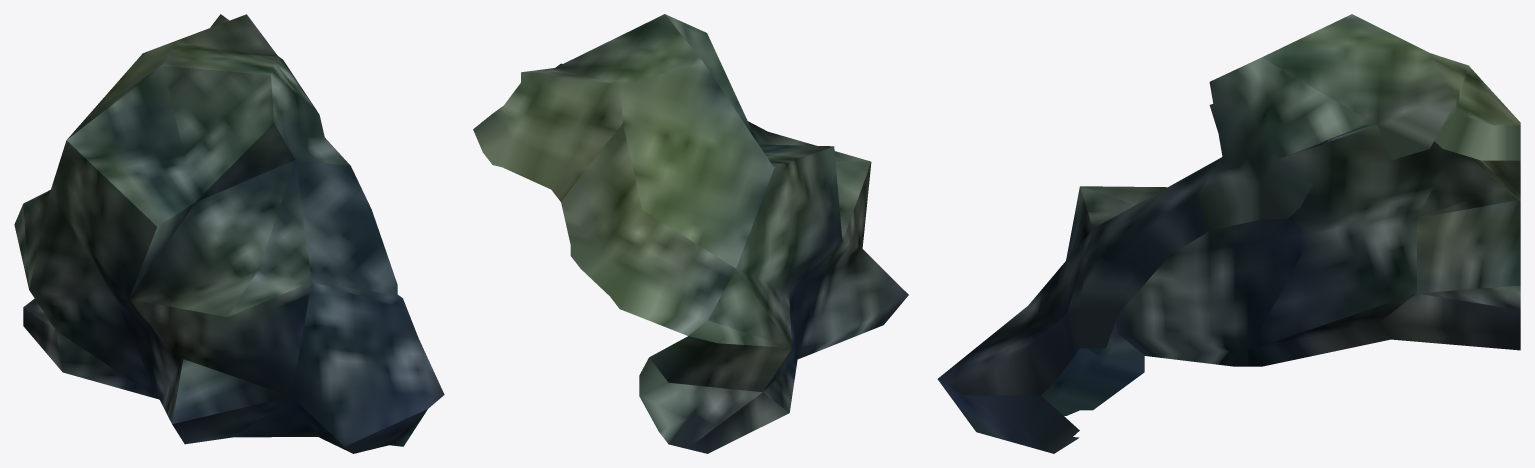
3 views of the same model, side by side, from view 1: azimuth 30°, elevation 25°; view 2: azimuth 150°, elevation 25°; view 3: azimuth 270°, elevation 25° (orthographic). The views are drawn at different scales.
Visible parts, largest first — view 1: 30436272704361615426_0; view 2: 30436272704361615426_0; view 3: 30436272704361615426_0.
Boxes of the visible parts, x1,y1,x2,y2 form: 30436272704361615426_0: (14, 14, 444, 453); 30436272704361615426_0: (473, 14, 908, 453); 30436272704361615426_0: (937, 14, 1520, 453).
Size of the model in its own units: 4.3 by 4.78 by 6.94.
1 material, 1 textured.
